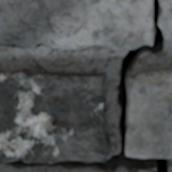brick: (0, 71, 110, 162), (126, 70, 171, 157)
broken_brick: (0, 0, 151, 50), (159, 0, 171, 42)
crack: (2, 0, 169, 171), (0, 42, 24, 48), (35, 42, 44, 47)
